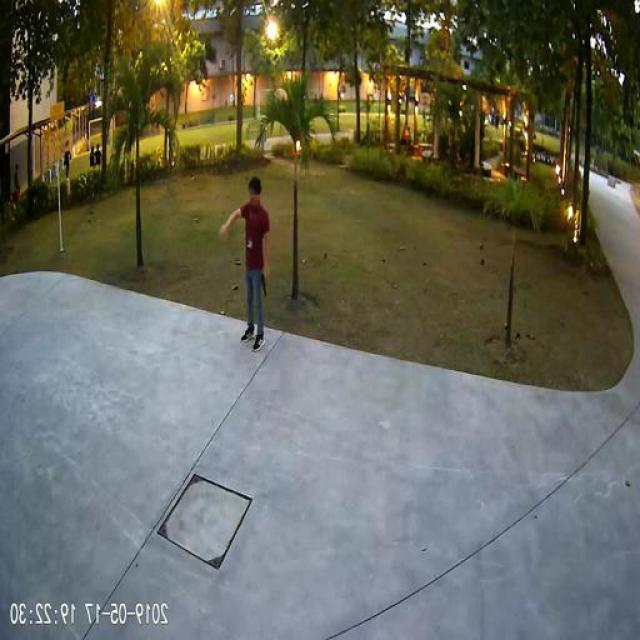Gun: (262, 269, 272, 295)
